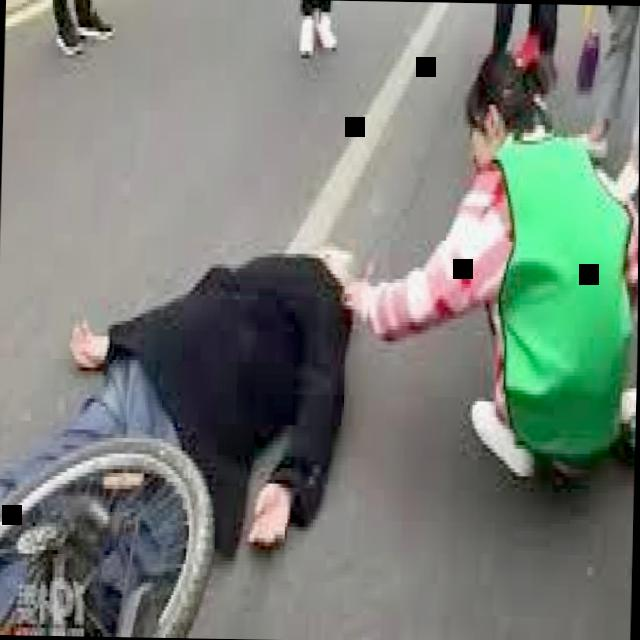Fall-Detected: (4, 194, 386, 640)
